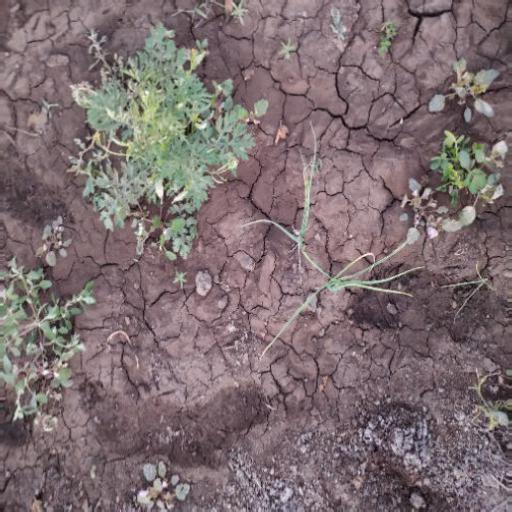weed: (55, 35, 251, 242), (4, 246, 88, 432), (411, 125, 505, 239)
